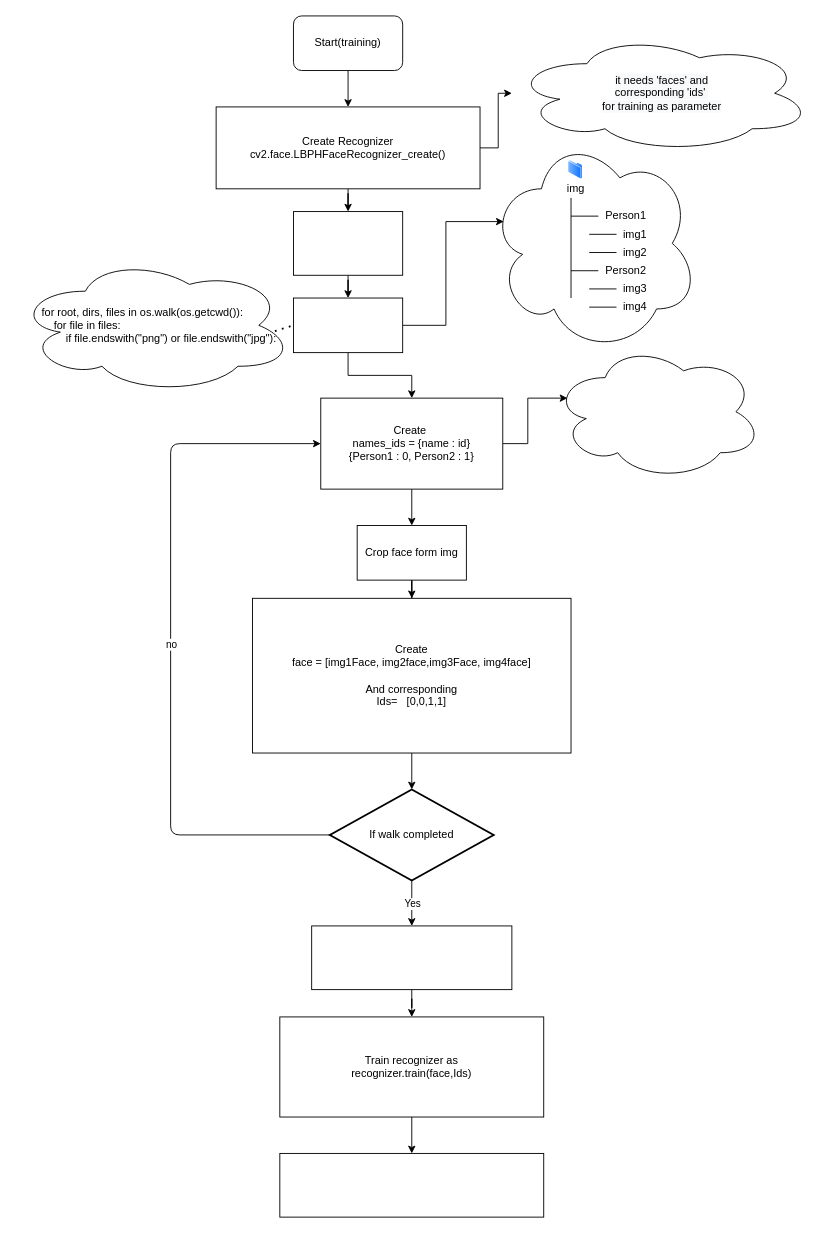
Image size: 828x1233. Some labels were removed from this diagram. Here are the shapes that lost their labels. From the top down, the centre of each, then its label:
the point at 348,243: Move img directory
the point at 348,325: Walk though img directory using loop
the point at 657,411: names_ids use later in recognizing person though its id
the point at 411,957: Save names_ids dictionary
the point at 411,1185: Save Recognizer
